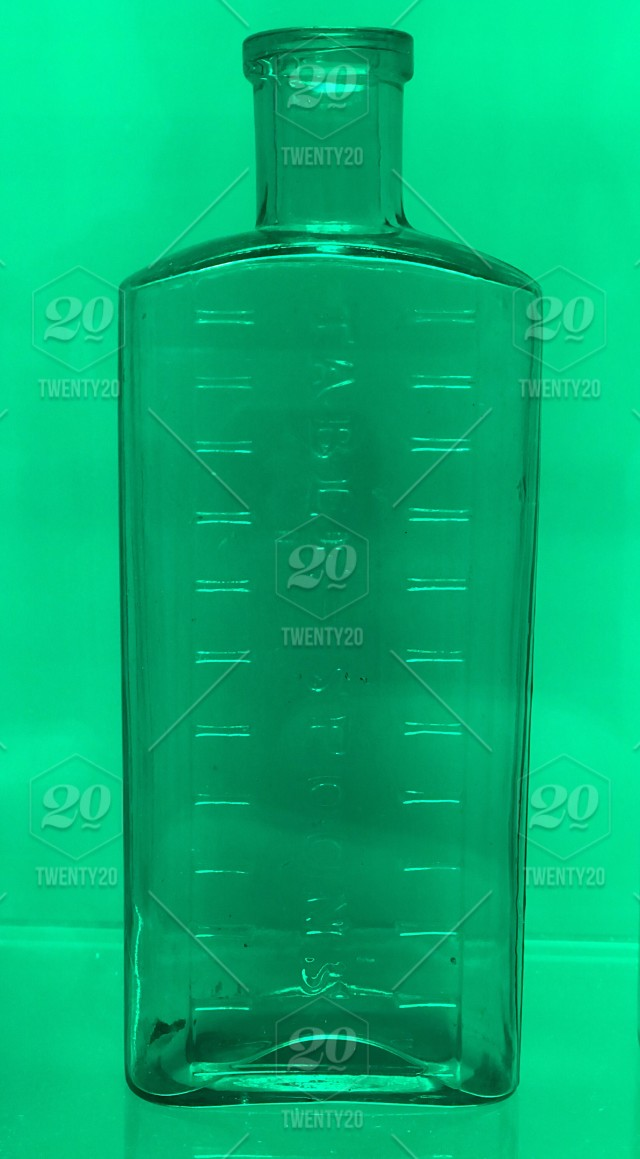bottle: (99, 22, 561, 1115)
